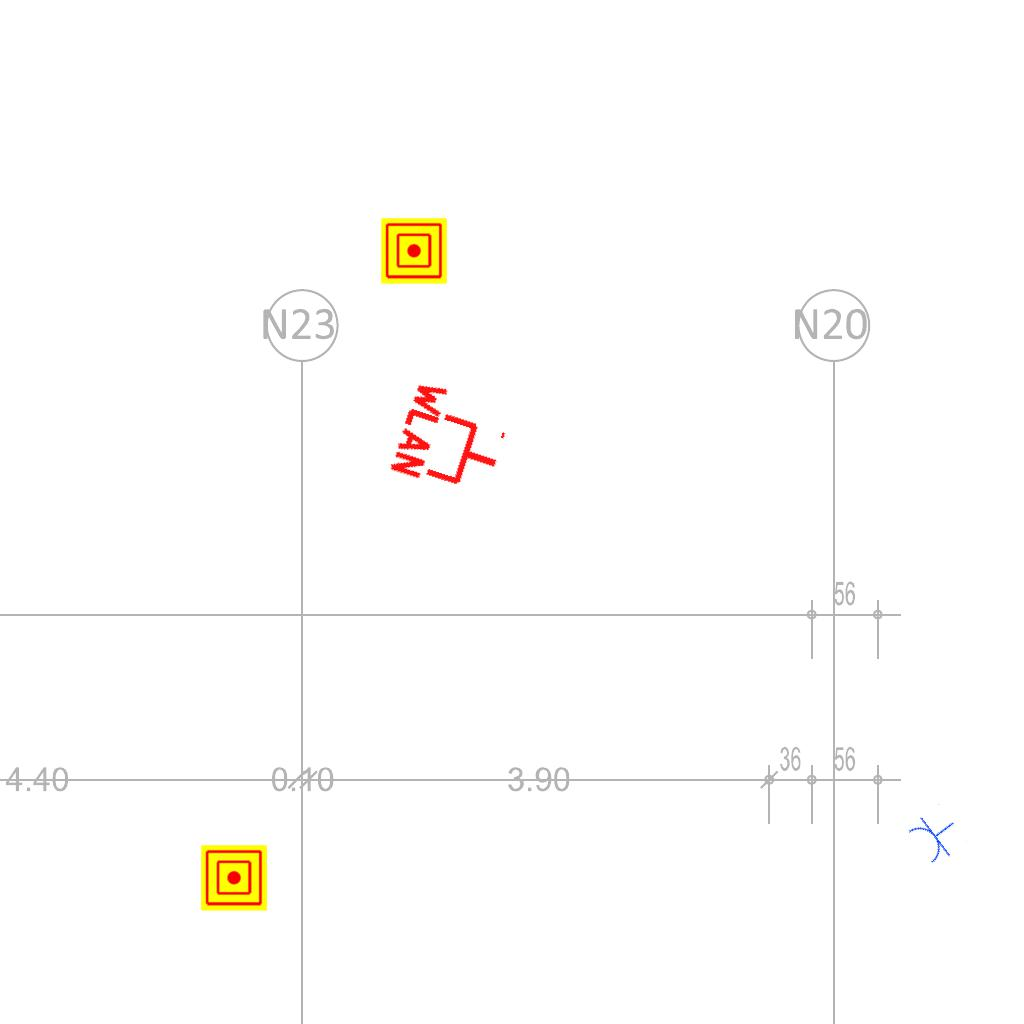NAM-Nichtautomatischer_Melder: (381, 218, 447, 284), (201, 845, 267, 911)
Schukosteckdose_einfach: (903, 802, 969, 869)
WLAN: (386, 374, 519, 506)
